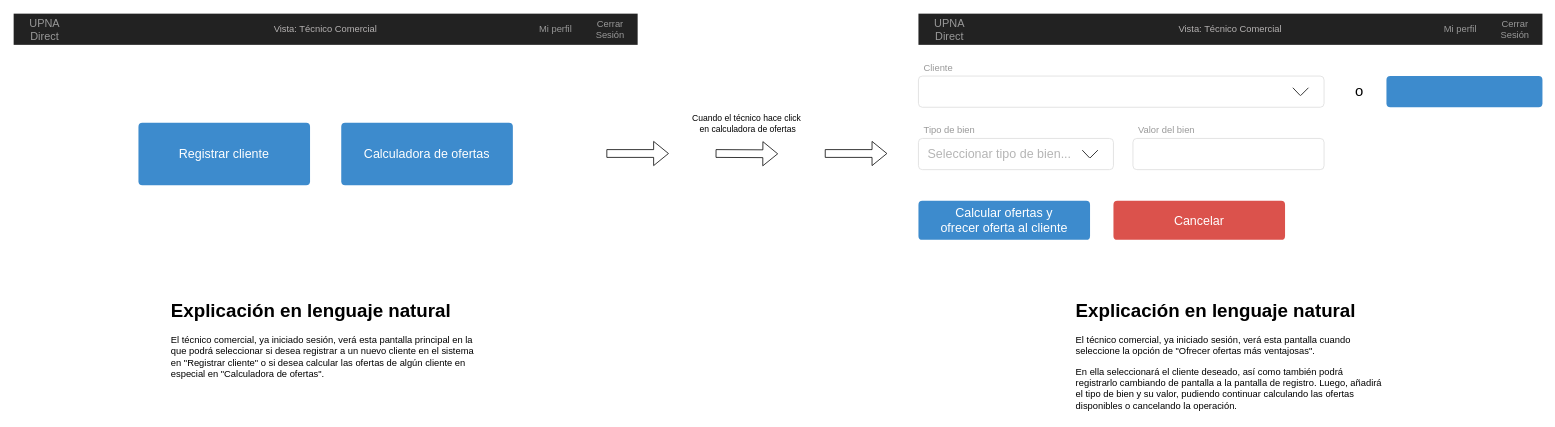
The diagram is 1555 pixels wide and 427 high, and some of its shapes have lost their labels. Here are the shapes that lost their labels. From the top down, the centre of each, then its label:
At (1121,91): "Seleccionar cliente...".
At (1464,91): "Ir a registrar cliente".
At (1228,154): "Introducir valor...".
